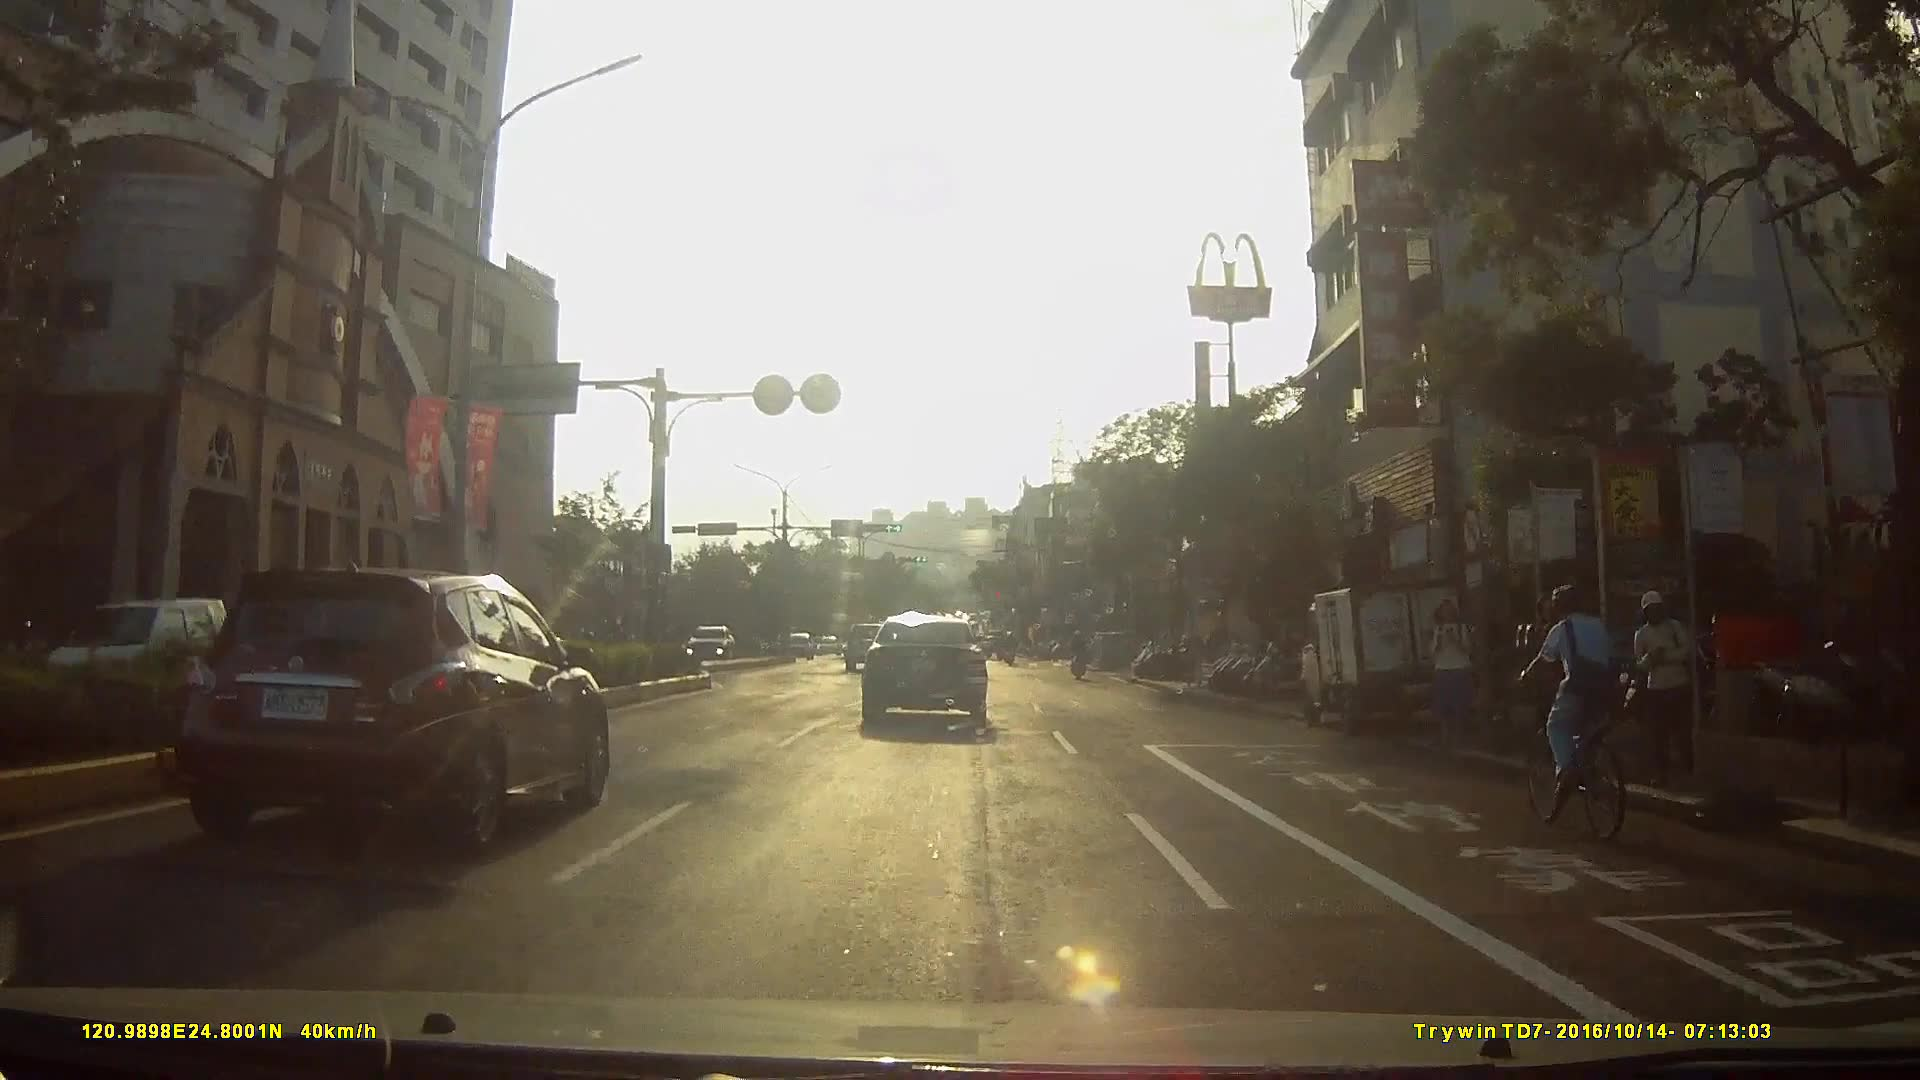pedestrian: (1632, 586, 1698, 787), (1427, 594, 1481, 757)
rider: (1509, 577, 1635, 845), (1068, 626, 1094, 685)
vehicle: (154, 562, 624, 854), (1284, 571, 1488, 747), (861, 611, 1005, 736), (839, 617, 898, 672), (677, 622, 737, 669), (770, 629, 807, 663)
